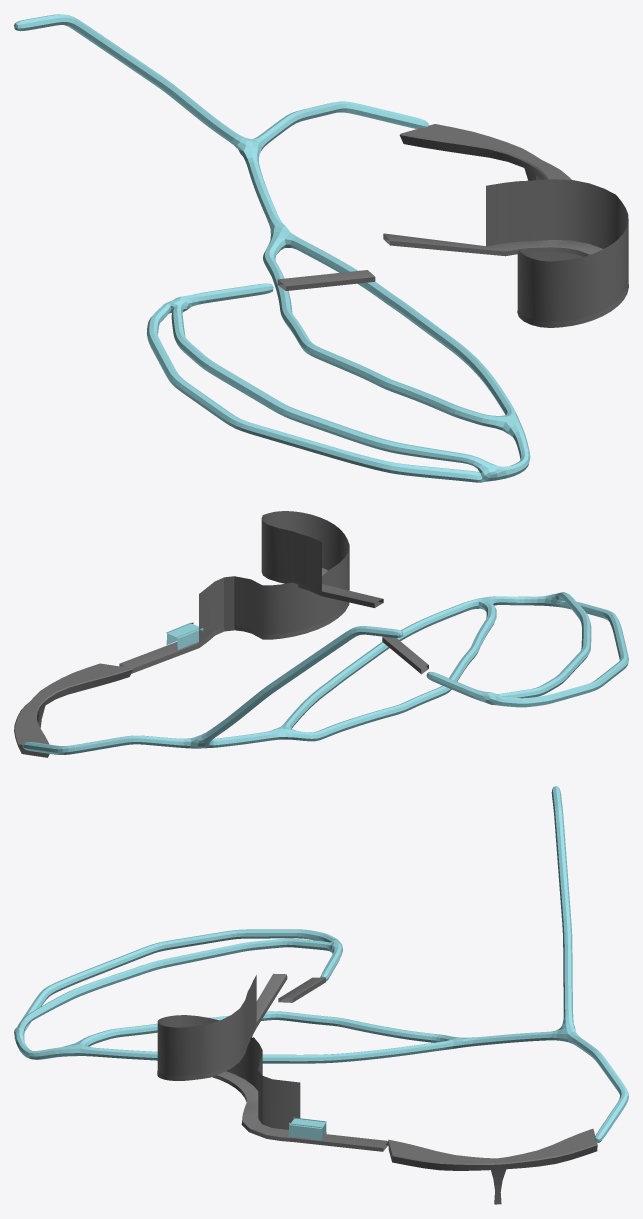
File: MineLevel.fbx
3 renders of one model, top to bottom at view 1: azimuth 30°, elevation 25°; view 2: azimuth 150°, elevation 25°; view 3: azimuth 270°, elevation 25°, orthographic. The views are drawn at different scales.
Visible parts, largest first — view 1: Cylinder; view 2: Cylinder; view 3: Cylinder.
Boxes of the visible parts, box(x1,y1,x2,y2) form: Cylinder: box(14, 14, 628, 482); Cylinder: box(14, 511, 628, 757); Cylinder: box(14, 786, 628, 1204).
Bounding box in the file's own units: 25457 × 12915 × 31409.
